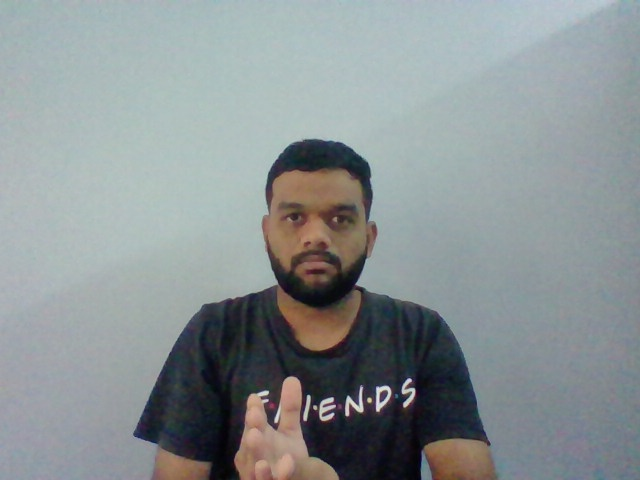Stop: (229, 373, 343, 480)
